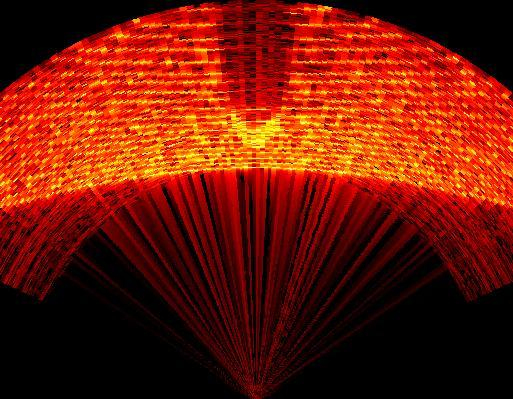box_crate: (217, 2, 296, 152)
